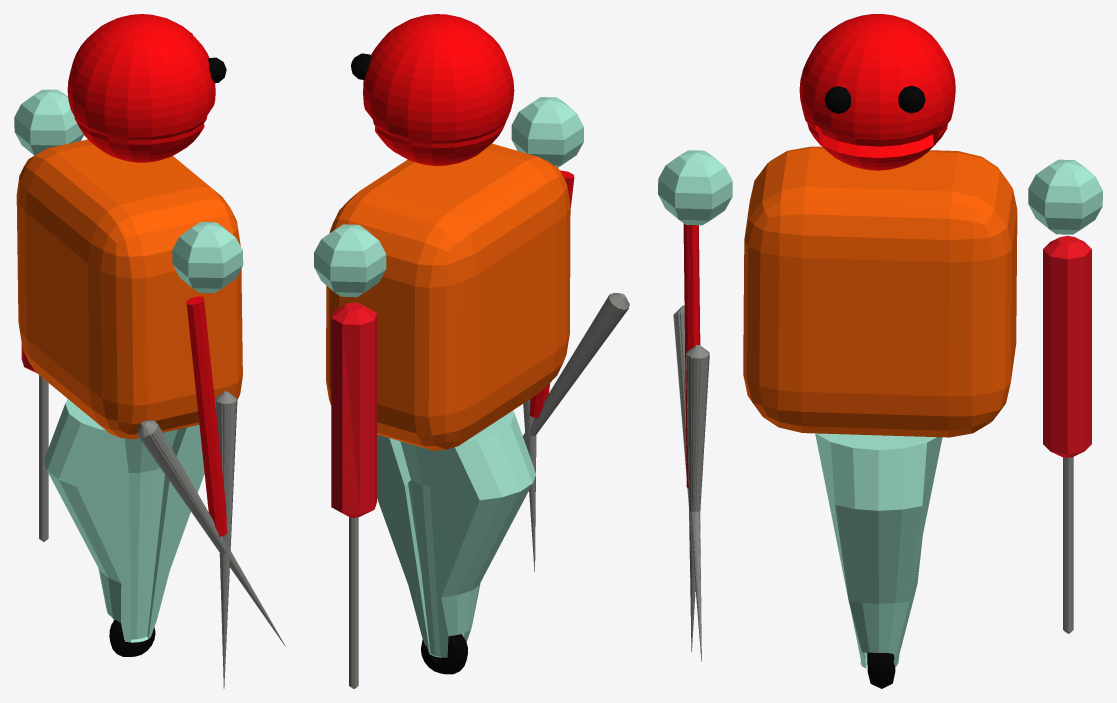
Rendered from medicUnit.fbx.
The picture shows the model from 3 angles, left to right: view 1: azimuth 30°, elevation 25°; view 2: azimuth 150°, elevation 25°; view 3: azimuth 270°, elevation 25°; orthographic projection. The views are drawn at different scales.
Parts seen in each view (by area): view 1: Cube, Cone, Sphere.002, Cylinder, Sphere, Cone.001, Sphere.001, Cone.002, Cylinder.002, Torus.014; view 2: Cube, Cone, Sphere.002, Cylinder.001, Sphere.001, Sphere, Cone.001, Cylinder.002, Torus.014, Cone.002, Cylinder; view 3: Cube, Cone, Sphere.002, Cylinder.001, Sphere, Sphere.001, Cone.002, Cylinder, Cone.001, Cylinder.002, Torus.014.
Part boxes in pixels (x1,y1,x2,y2): Cube: (16,139,242,439); Cone: (44,399,204,642); Sphere.002: (67,14,215,162); Cylinder: (186,296,227,536); Sphere: (172,222,243,292); Cone.001: (136,420,285,646); Sphere.001: (14,89,83,155); Cone.002: (215,391,237,688); Cylinder.002: (39,375,48,541); Torus.014: (109,619,155,656); Cube: (326,143,570,450); Cone: (377,410,536,657); Sphere.002: (363,14,514,165); Cylinder.001: (331,302,376,517); Sphere.001: (314,224,386,297); Sphere: (511,97,583,167); Cone.001: (523,293,629,445); Cylinder.002: (349,517,358,688); Torus.014: (421,634,467,674); Cone.002: (523,399,536,571); Cylinder: (529,170,574,418); Cube: (743,146,1017,437); Cone: (815,433,942,668); Sphere.002: (799,14,955,170); Cylinder.001: (1043,235,1091,457); Sphere: (658,150,732,225); Sphere.001: (1028,159,1102,234); Cone.002: (686,345,709,652); Cylinder: (683,223,700,488); Cone.001: (673,305,701,661); Cylinder.002: (1063,457,1073,633); Torus.014: (867,652,895,688).
Bounding box in the file's own units: 114 × 424 × 256.
